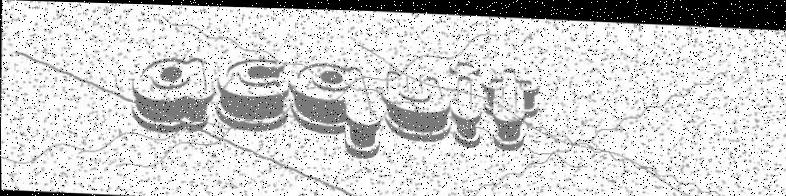a: (129, 52, 214, 133)
c: (214, 54, 291, 131)
i: (445, 55, 485, 146)
q: (286, 59, 382, 158)
t: (481, 64, 539, 147)
u: (379, 66, 454, 142)
